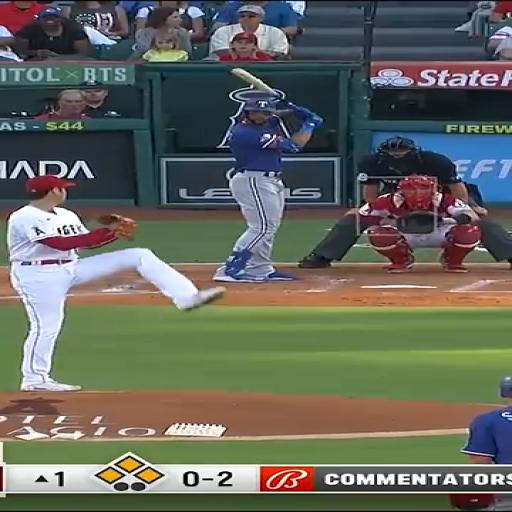bat: (226, 67, 292, 113)
